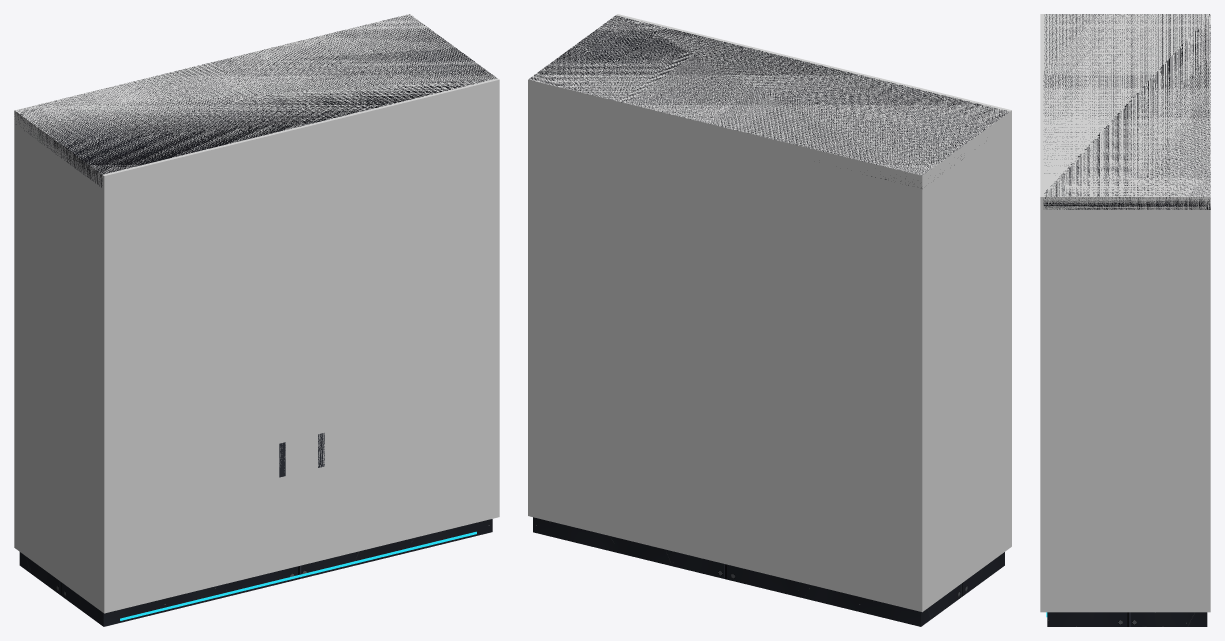
File: Pet_Aquarium.gltf
3 renders of one model, left to right at view 1: azimuth 30°, elevation 25°; view 2: azimuth 150°, elevation 25°; view 3: azimuth 270°, elevation 25°, orthographic. The views are drawn at different scales.
Visible parts, largest first — view 1: Pet_Aquarium_COL, Pet_Aquarium; view 2: Pet_Aquarium_COL, Pet_Aquarium; view 3: Pet_Aquarium_COL, Pet_Aquarium.
Boxes of the visible parts, <box> form: Pet_Aquarium_COL: <box>14,14,499,613</box>; Pet_Aquarium: <box>14,14,496,626</box>; Pet_Aquarium_COL: <box>528,14,1011,612</box>; Pet_Aquarium: <box>529,15,1008,626</box>; Pet_Aquarium_COL: <box>1040,14,1210,612</box>; Pet_Aquarium: <box>1043,14,1210,626</box>.
Size of the model in its own units: 1.22 by 1.34 by 0.48.
Materials: 14 (2 with a texture image).
